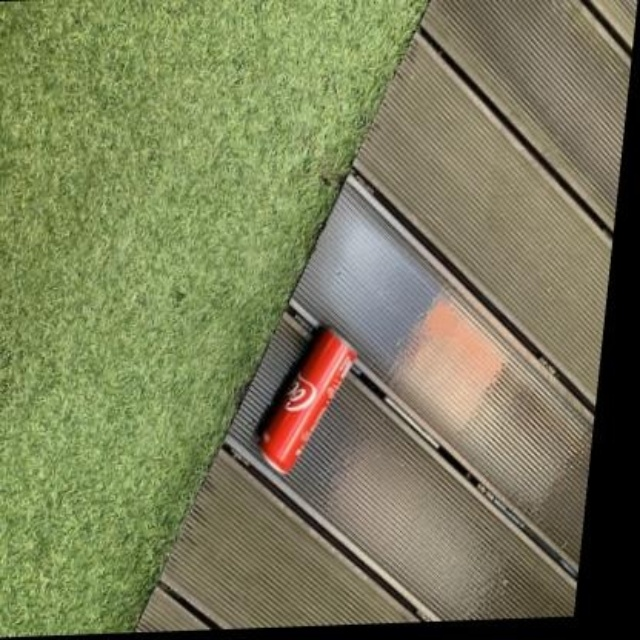trash: (260, 328, 355, 472)
